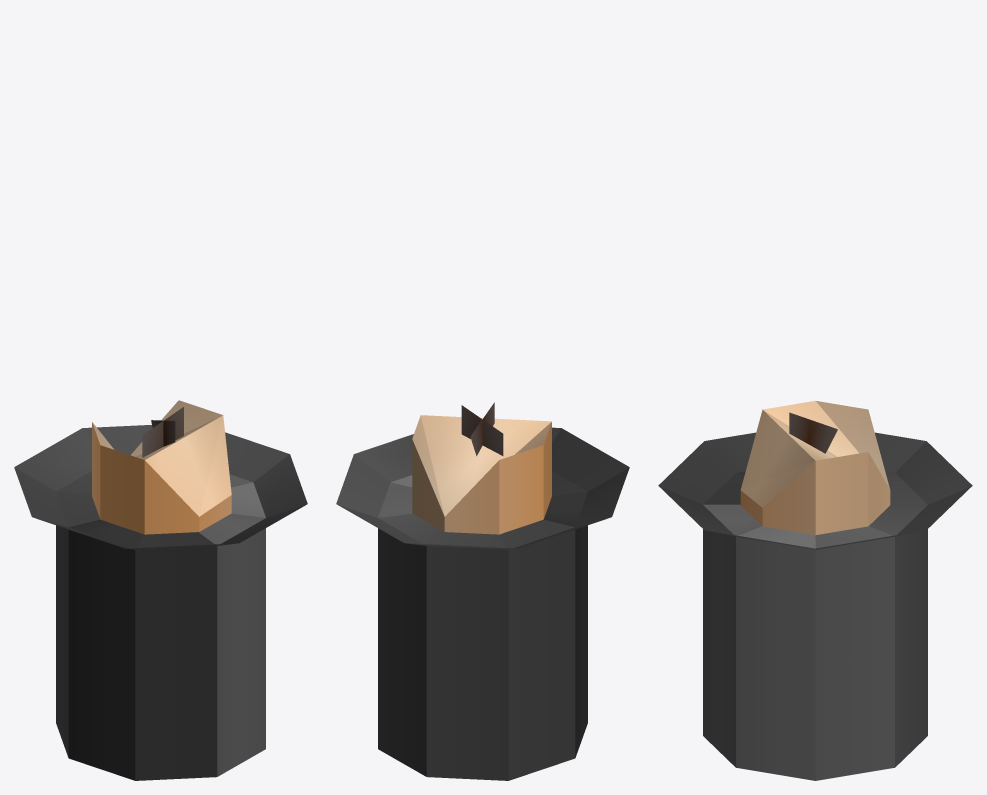
File: spent_light_997x02.obj
The picture shows the model from 3 angles, left to right: view 1: azimuth 30°, elevation 25°; view 2: azimuth 150°, elevation 25°; view 3: azimuth 270°, elevation 25°; orthographic projection.
Visible parts, largest first — view 1: spent_light_997x02; view 2: spent_light_997x02; view 3: spent_light_997x02.
Part boxes in pixels (bbox=[...]): spent_light_997x02: bbox=[14, 400, 307, 780]; spent_light_997x02: bbox=[336, 402, 629, 780]; spent_light_997x02: bbox=[658, 400, 972, 780].
Bounding box in the file's own units: 0.3802 × 0.9697 × 0.401.
